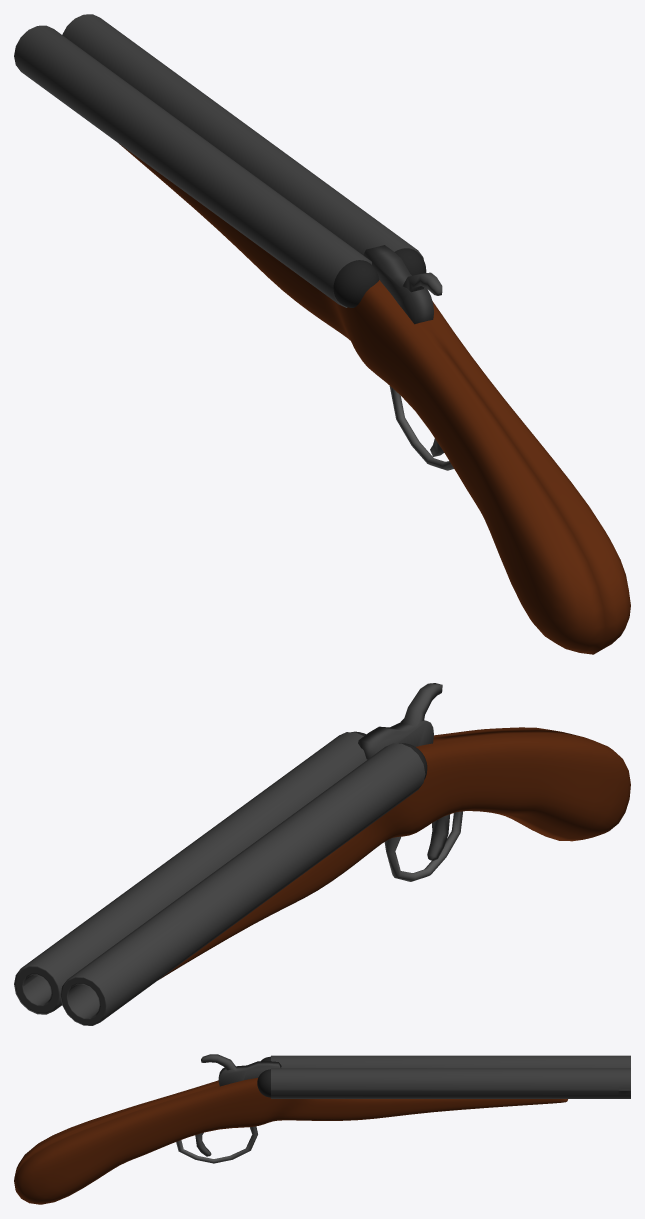
Rendered from Sawed-Off.fbx.
3 views of the same model, one above another, from view 1: azimuth 30°, elevation 25°; view 2: azimuth 150°, elevation 25°; view 3: azimuth 270°, elevation 25° (orthographic). The views are drawn at different scales.
Parts seen in each view (by area): view 1: Cube, Cylinder, Cylinder.001, Sphere, Torus; view 2: Cylinder, Cube, Cylinder.001, Torus, Cube.001, Cube.002; view 3: Cube, Cylinder, Cylinder.001, Torus, Sphere, Cube.001.
Boxes of the visible parts, <box> form: Cube: <box>119,144,630,654</box>; Cylinder: <box>14,14,423,307</box>; Cylinder.001: <box>363,245,433,324</box>; Sphere: <box>333,248,426,307</box>; Torus: <box>389,386,453,470</box>; Cylinder: <box>14,732,425,1025</box>; Cube: <box>159,727,630,979</box>; Cylinder.001: <box>358,719,433,759</box>; Torus: <box>384,811,462,881</box>; Cube.001: <box>403,683,442,726</box>; Cube.002: <box>427,814,450,860</box>; Cube: <box>14,1078,567,1204</box>; Cylinder: <box>271,1055,630,1098</box>; Cylinder.001: <box>218,1061,281,1086</box>; Torus: <box>176,1126,257,1163</box>; Sphere: <box>257,1056,270,1097</box>; Cube.001: <box>201,1054,236,1070</box>.
Size of the model in its own units: 16.31 by 43.65 by 164.
